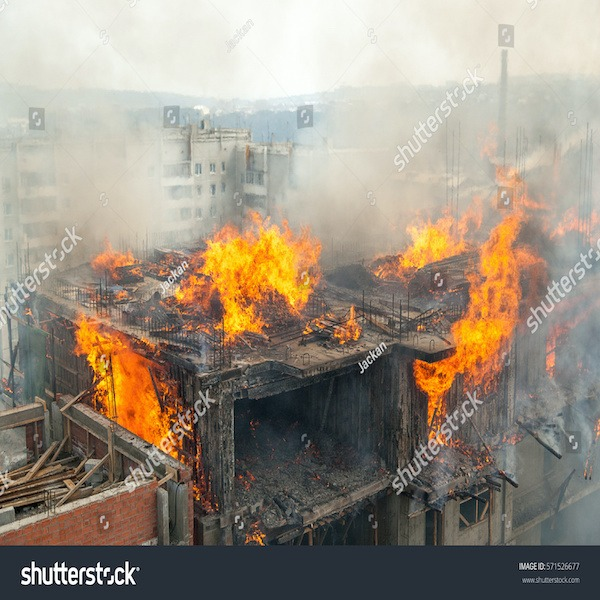fire: (207, 233, 317, 335), (81, 325, 165, 430), (479, 215, 533, 326), (405, 218, 460, 268), (458, 318, 510, 364), (418, 358, 499, 383), (92, 239, 142, 271)
